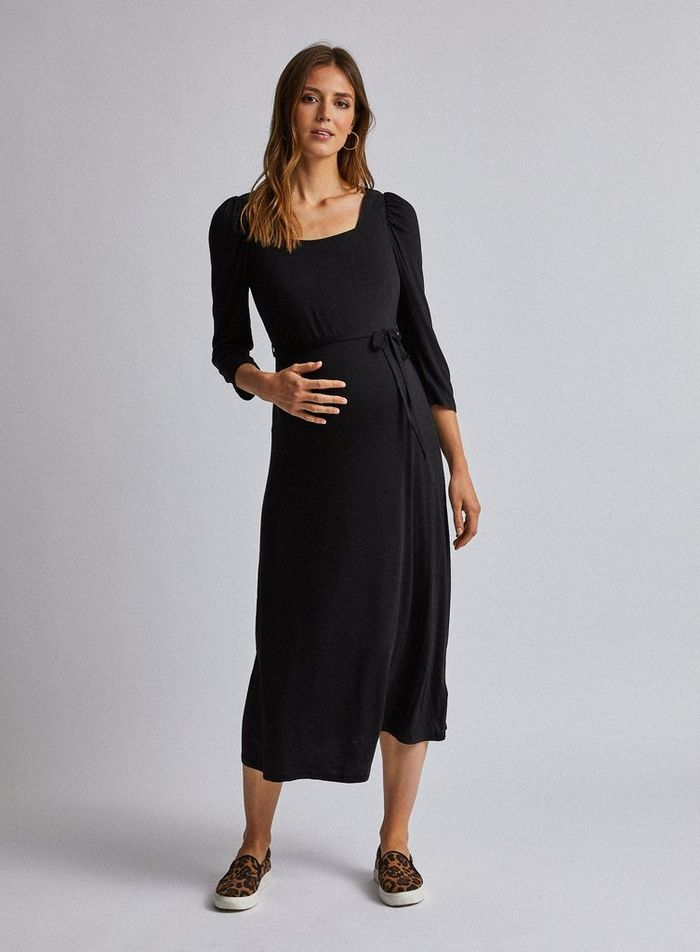S_dress: (193, 186, 462, 775)
